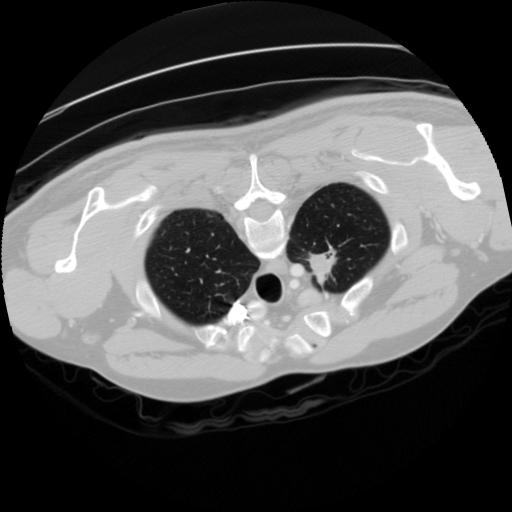nodule: (300, 245, 342, 287)
